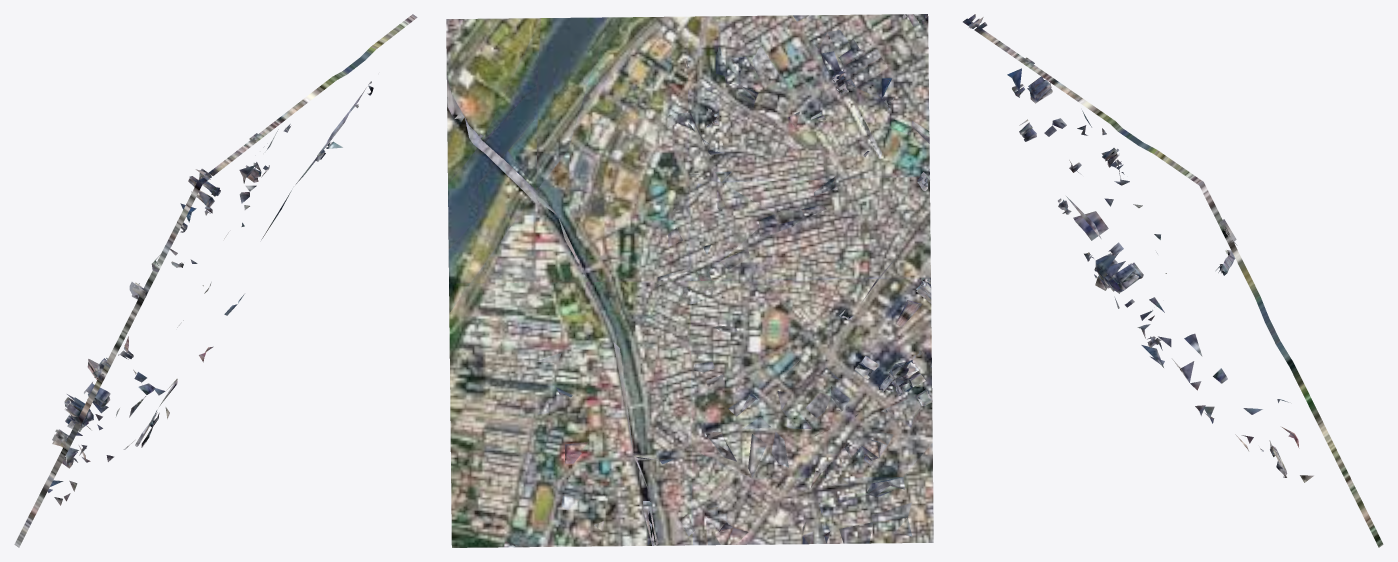
The picture shows the model from 3 angles, left to right: view 1: azimuth 30°, elevation 25°; view 2: azimuth 150°, elevation 25°; view 3: azimuth 270°, elevation 25°; orthographic projection. The views are drawn at different scales.
Size of the model in its own units: 2445 by 2245 by 2060.
Materials: 1 (1 with a texture image).
